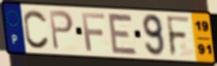9: (141, 13, 167, 59)
C: (22, 8, 51, 51)
E: (106, 11, 139, 57)
F: (165, 14, 192, 58), (80, 12, 107, 53)
P: (48, 9, 76, 52)
